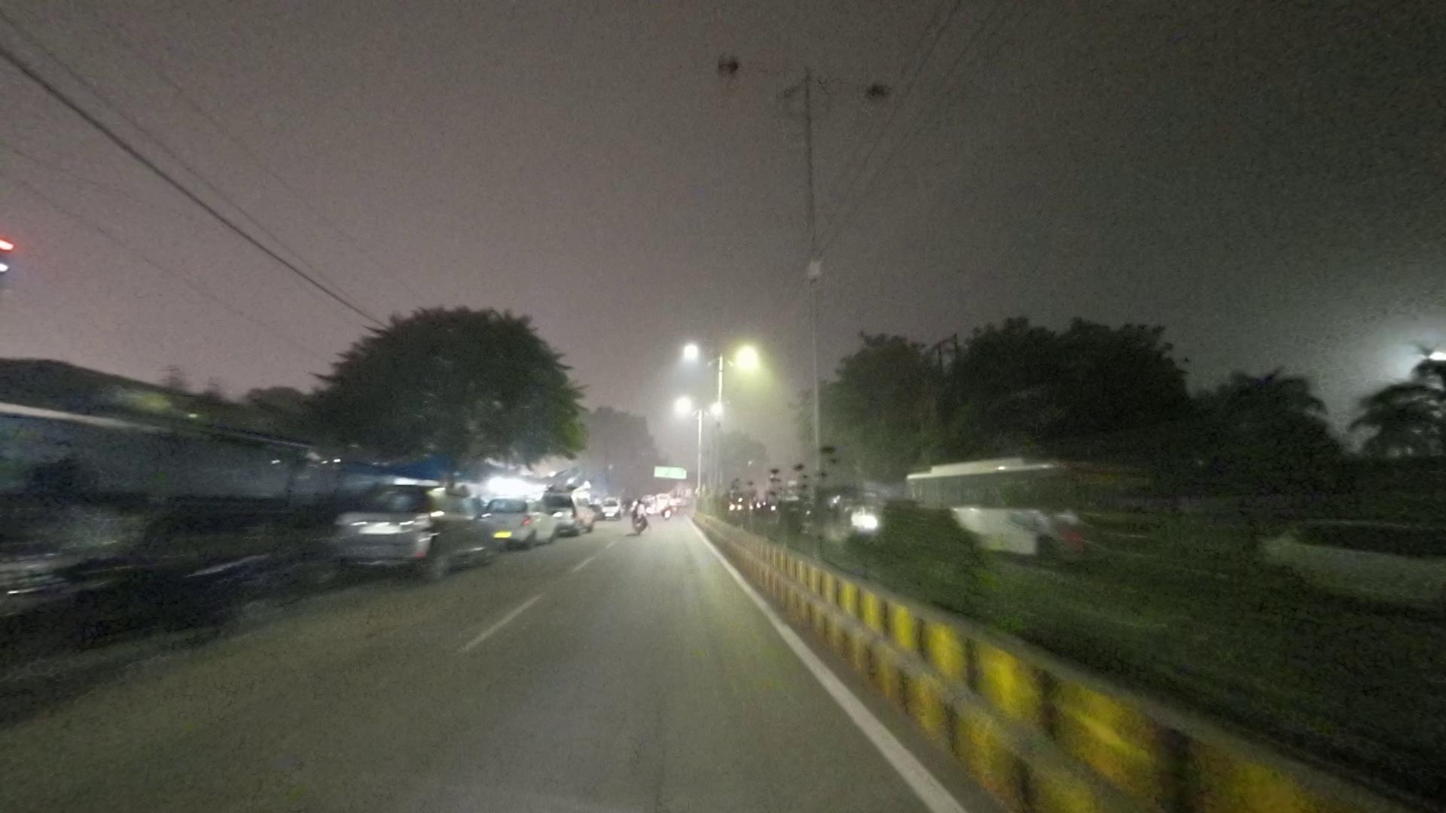streetlight: (715, 52, 802, 82), (811, 73, 894, 103)
